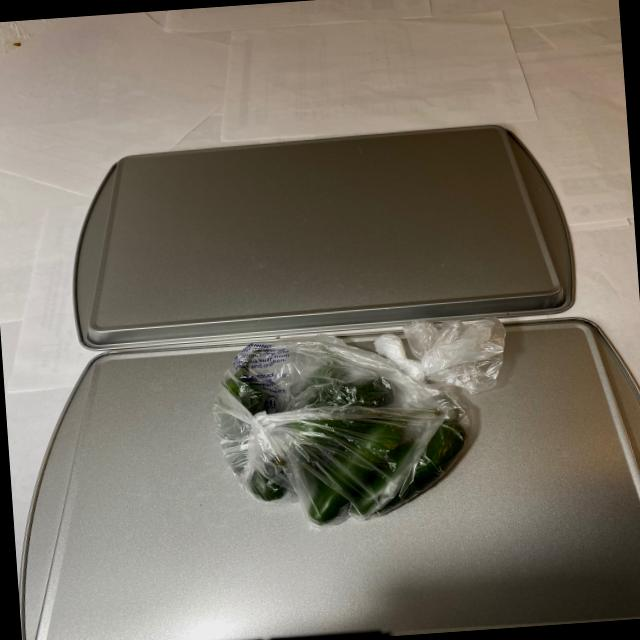chilli: (208, 336, 474, 519)
